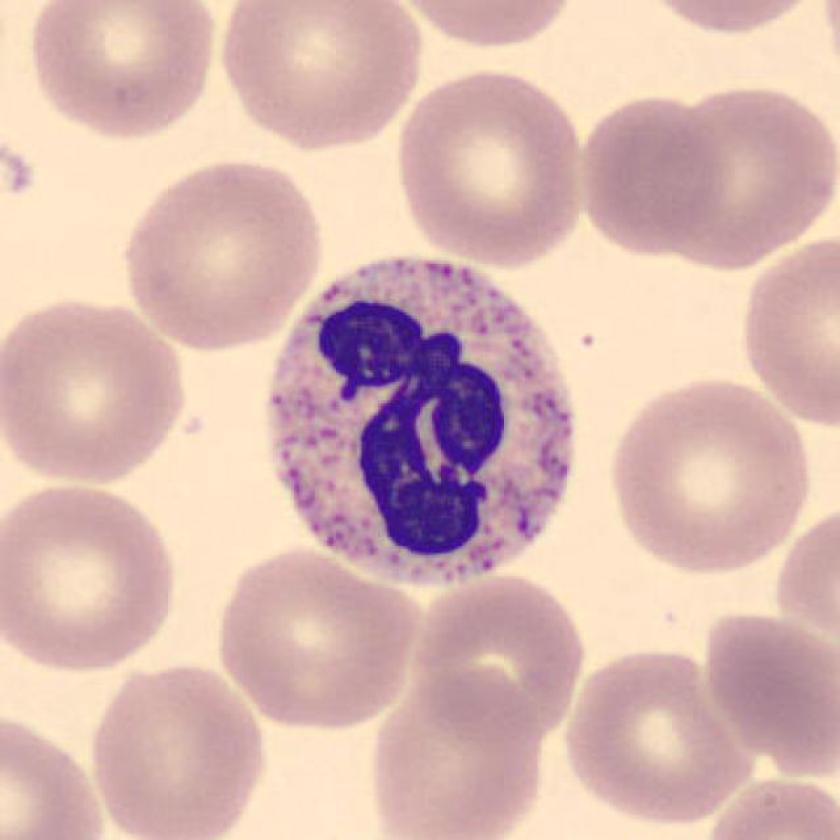neutrophil: (271, 255, 576, 587)
